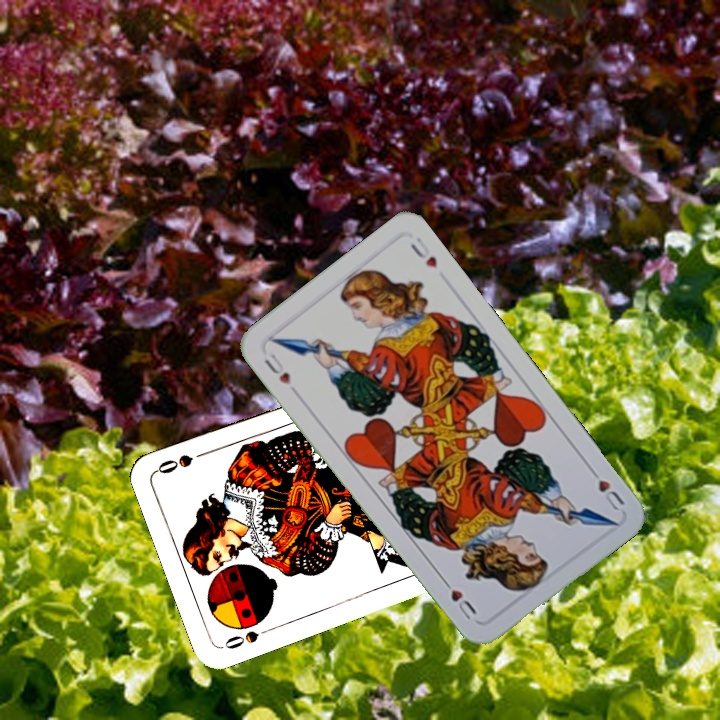HU: (584, 462, 627, 514), (260, 349, 293, 388)
SO: (218, 623, 275, 652)
